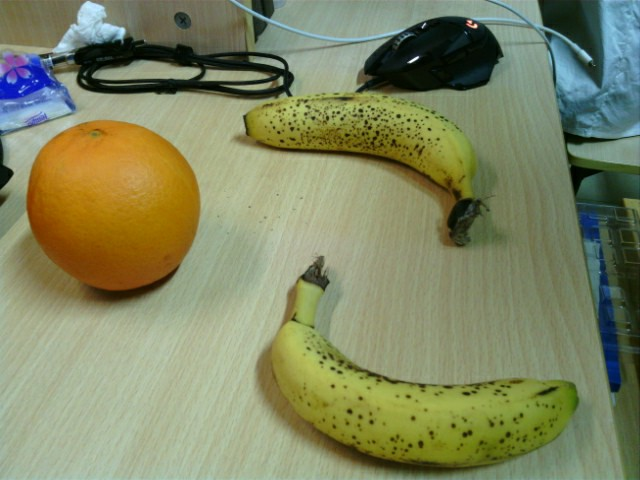normal_banana: (271, 255, 579, 465), (242, 93, 489, 249)
normal_orange: (26, 122, 202, 285)
